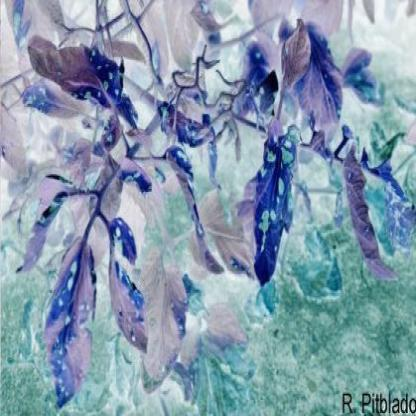tomato early blight leaf: (30, 32, 148, 139), (51, 233, 103, 393), (98, 218, 152, 347), (256, 126, 295, 280), (168, 149, 221, 255)
